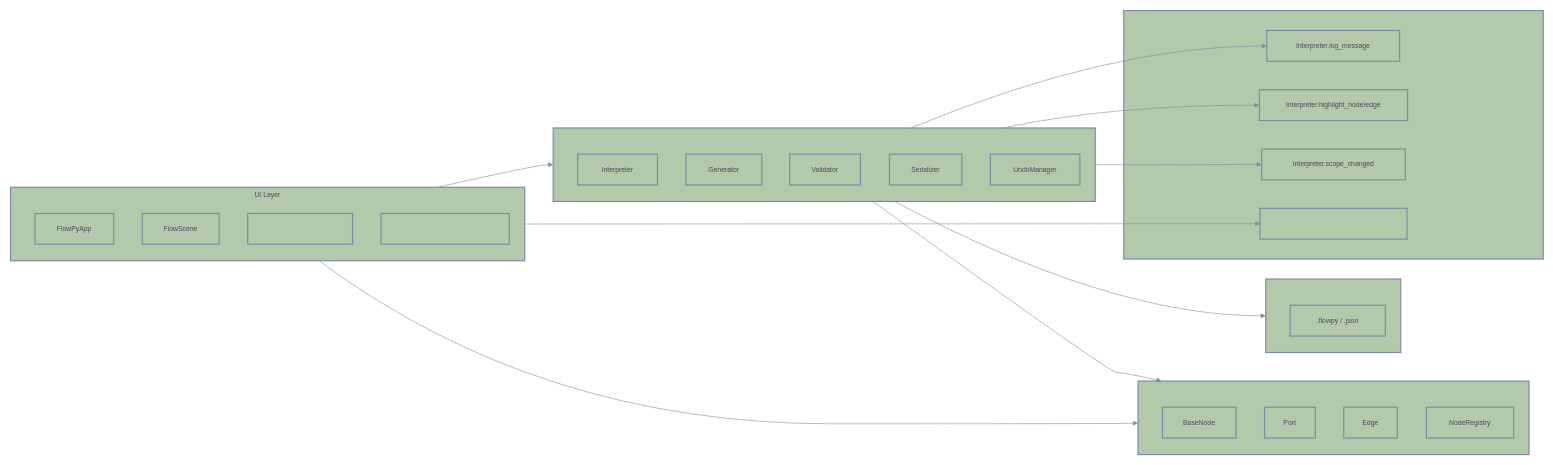
This 1553x465 diagram has some shape labels left out. The shapes that lost their labels are listed below. From the top down, each one's box as (x1, y1, x2, y2) in pixels, then its label:
(1123, 10, 1544, 259): Runtime Signals
(552, 127, 1096, 202): Core Layer
(247, 213, 353, 245): NodeEditorDialog
(380, 213, 510, 245): Rulers / ZoomPanFilter
(1259, 207, 1407, 239): FlowScene.history_changed
(1265, 278, 1401, 353): Persistence
(1137, 380, 1529, 455): Model Layer
